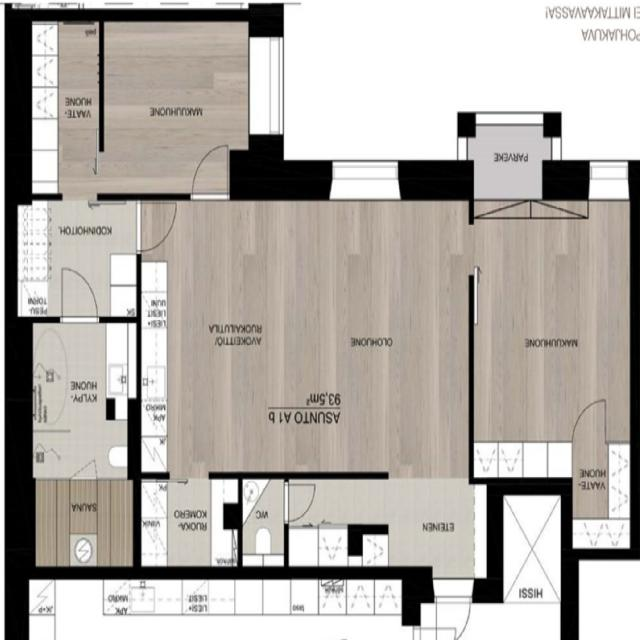door: (434, 578, 471, 640), (61, 267, 97, 323), (137, 203, 176, 252), (192, 144, 227, 198), (572, 398, 605, 445), (284, 484, 316, 521), (70, 440, 96, 478)
